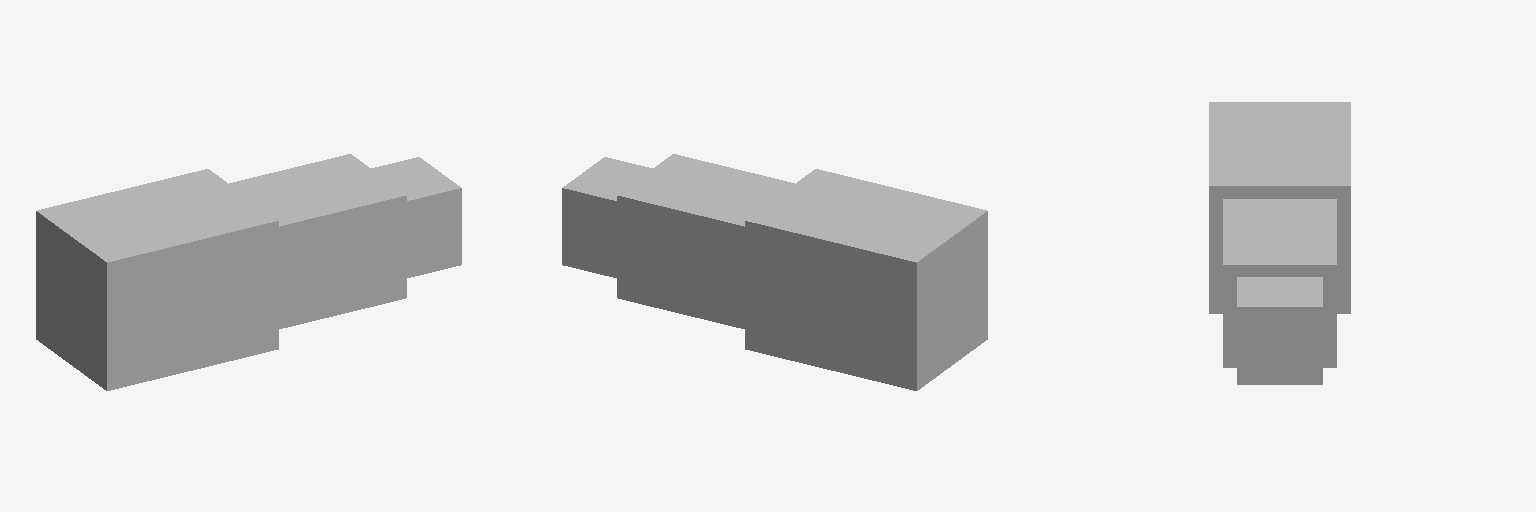
The model's file is hand.obj.
The picture shows the model from 3 angles: view 1: azimuth 30°, elevation 25°; view 2: azimuth 150°, elevation 25°; view 3: azimuth 270°, elevation 25°; orthographic projection.
Parts seen in each view (by area): view 1: object 1; view 2: object 1; view 3: object 1.
Part boxes in pixels (left/top/right/bottom): object 1: left=36, top=154, right=461, bottom=390; object 1: left=562, top=154, right=987, bottom=390; object 1: left=1209, top=102, right=1350, bottom=384.
Bounding box in the file's own units: 3 × 1 × 1.